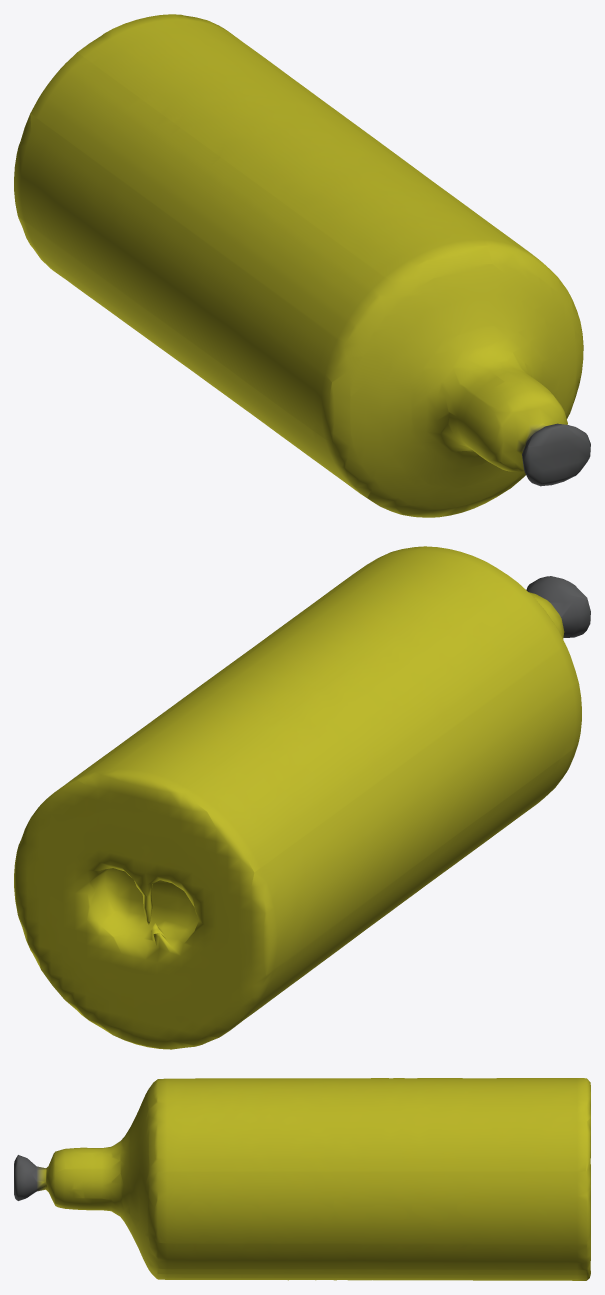
File: an opennable bottle.obj
3 views of the same model, one above another, from view 1: azimuth 30°, elevation 25°; view 2: azimuth 150°, elevation 25°; view 3: azimuth 270°, elevation 25° (orthographic). The views are drawn at different scales.
Size of the model in its own units: 0.3535 by 0.3527 by 1.
